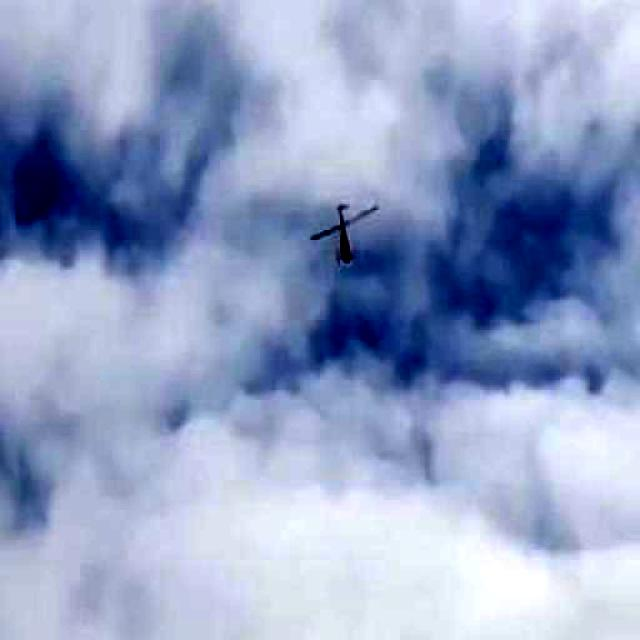drone: (292, 159, 395, 289)
